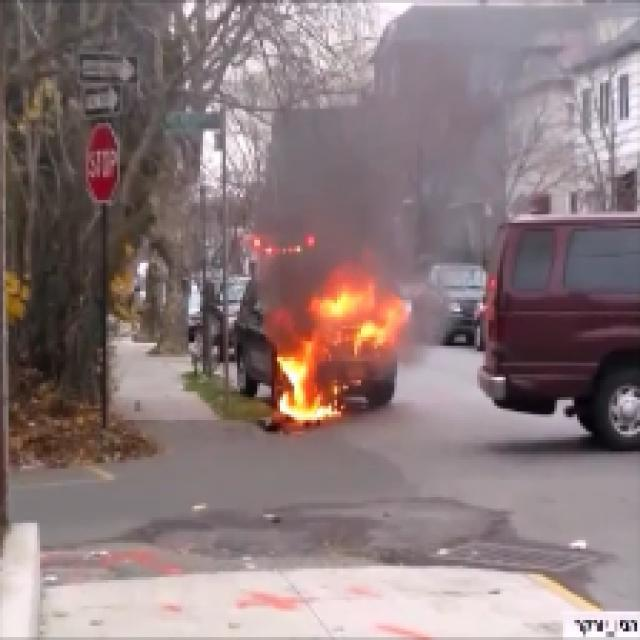Fire: (263, 263, 408, 420)
Smoke: (292, 146, 397, 260)
